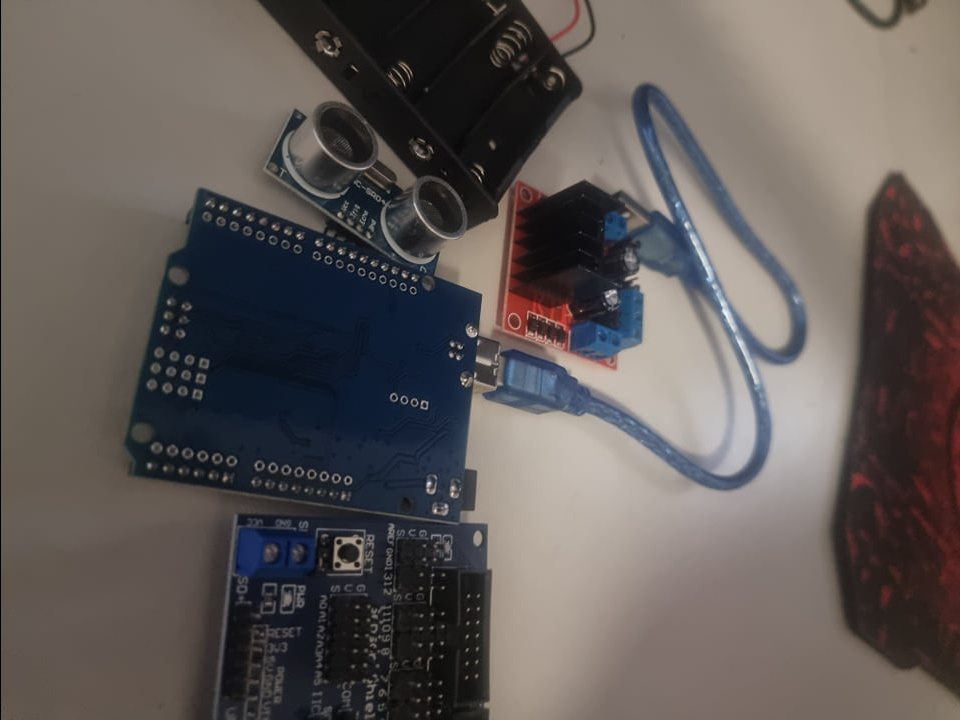5V EXPANSION: (186, 512, 495, 720)
BATTERY BOX: (329, 3, 580, 208)
MOTOR: (498, 178, 654, 373)
SENSOR: (270, 96, 464, 278)
